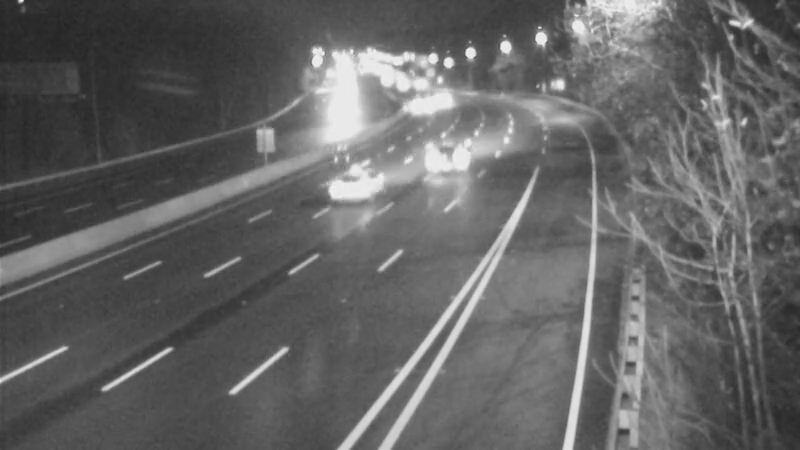vehicle: (312, 144, 392, 224), (418, 78, 468, 128), (385, 84, 435, 134), (427, 125, 477, 175), (322, 90, 372, 140)
